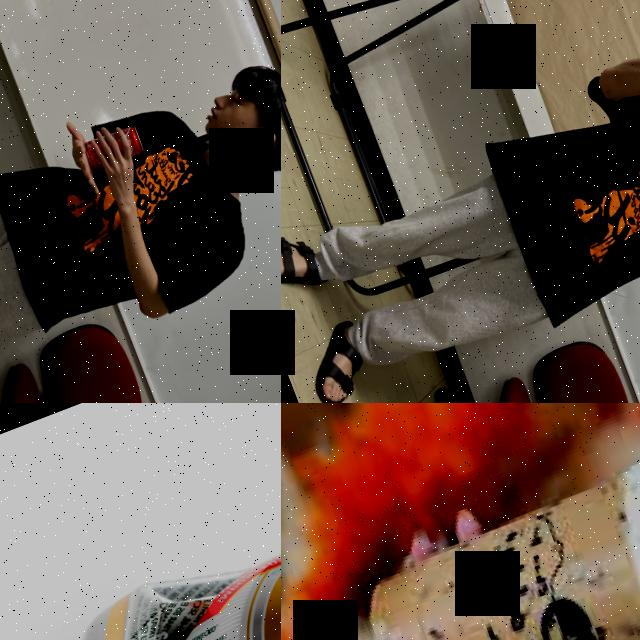can: (81, 123, 145, 173)
cup: (333, 403, 640, 640)
